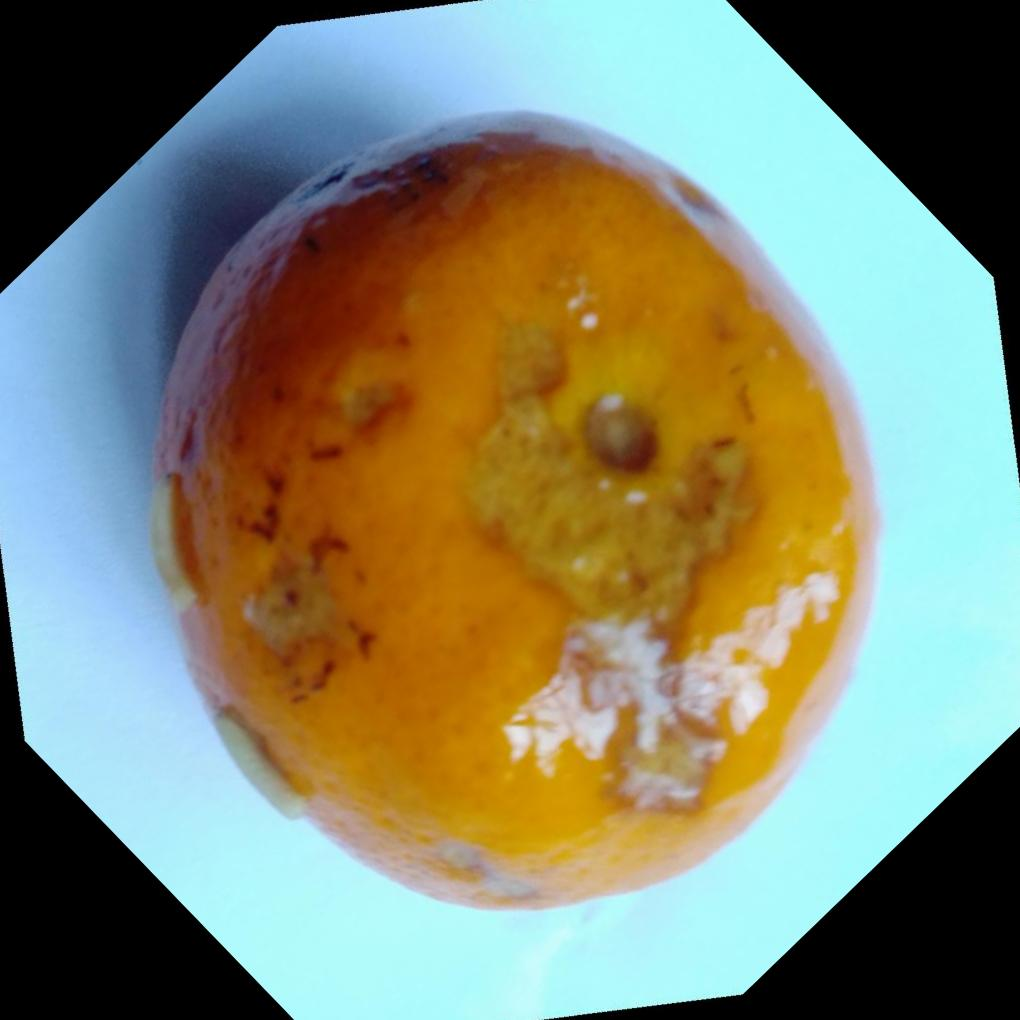FreshOrange: (143, 112, 878, 915)
